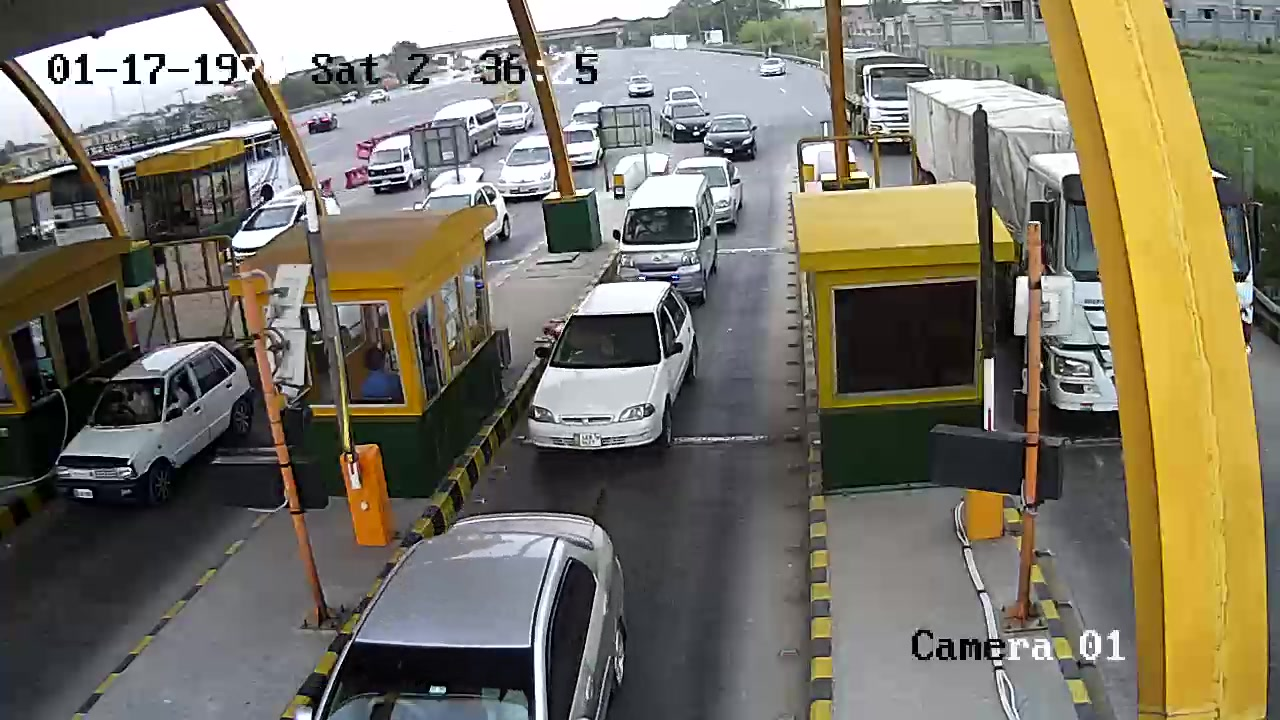F1: (532, 273, 696, 462), (619, 171, 720, 303)
